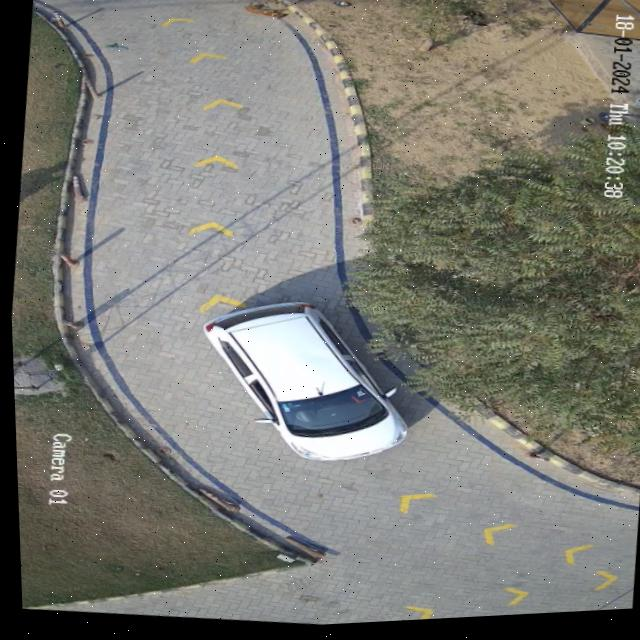car: (198, 305, 404, 464)
